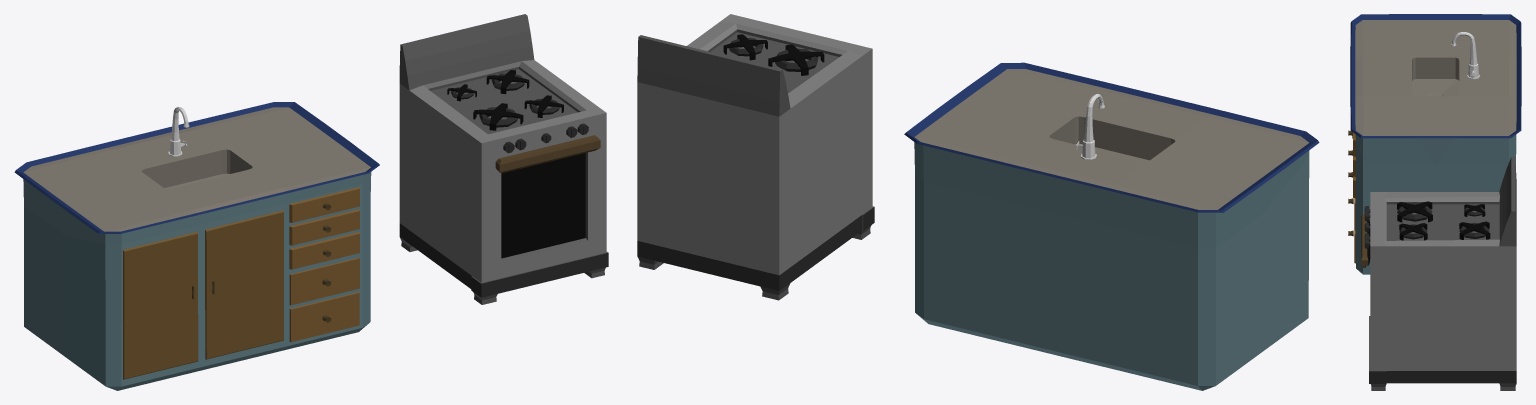
Rendered from PiaFogao.fbx.
3 renders of one model, left to right at view 1: azimuth 30°, elevation 25°; view 2: azimuth 150°, elevation 25°; view 3: azimuth 270°, elevation 25°, orthographic. The views are drawn at different scales.
Visible parts, largest first — view 1: PiaCozinha, Fogao; view 2: PiaCozinha, Fogao; view 3: PiaCozinha, Fogao.
Boxes of the visible parts, box(x1,y1,x2,y2) form: PiaCozinha: box(14, 102, 379, 390); Fogao: box(399, 14, 608, 304); PiaCozinha: box(904, 62, 1319, 390); Fogao: box(637, 14, 874, 300); PiaCozinha: box(1348, 14, 1521, 274); Fogao: box(1361, 156, 1516, 390).
Size of the model in its own units: 663 by 271 by 216.
